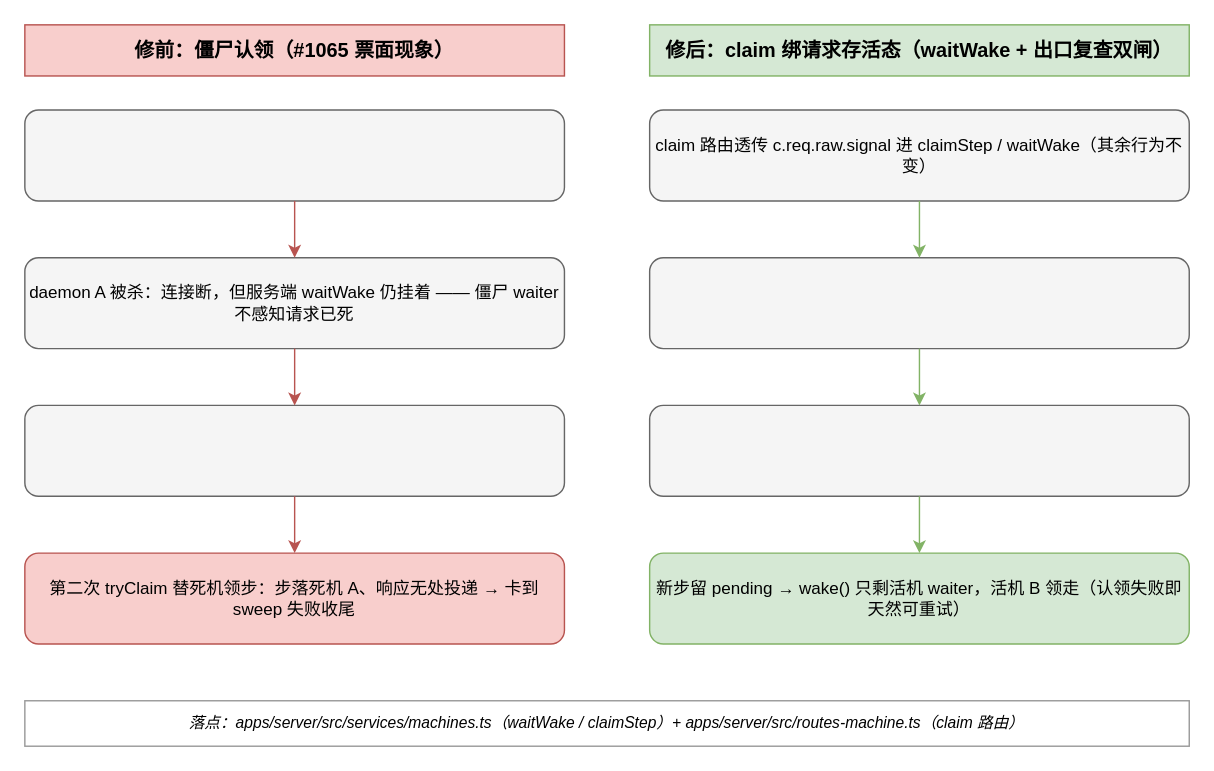
This 1214x771 diagram has some shape labels left out. The centre of each missing label's shape, as x and y in pixels:
daemon A 发 claim 长轮询：首试领空手 → waitWake 注册 waiter（hold ≤75s，插入序在前）: (x=293, y=155)
daemon A 被杀：连接断 → node-server 对 Request signal abort（客户端断连即触发）: (x=918, y=302)
waitWake 即刻 settle(false) 并摘除 waiter；claimStep 出口再复查 signal（兜 wake/abort 竞序）: (x=918, y=450)
新步入队 → wake()：waiter Set 按插入序，僵尸 waiter 先醒、先续跑: (x=293, y=450)
